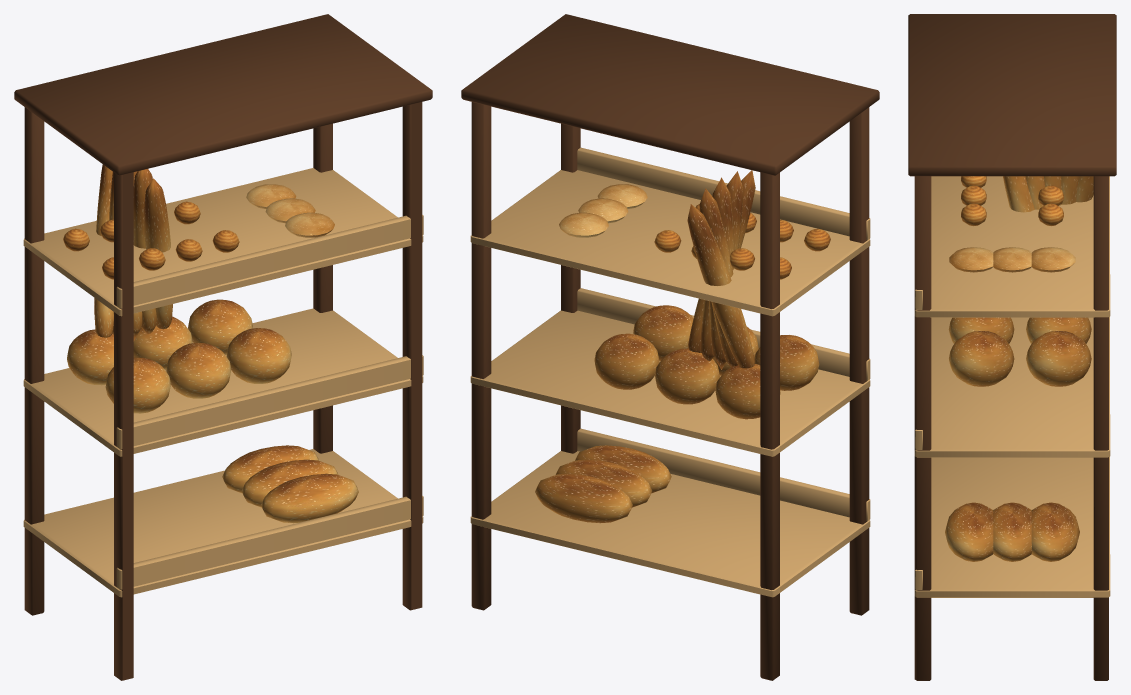
Rendered from buffet_bakery_display_stand.glb.
3 views of the same model, side by side, from view 1: azimuth 30°, elevation 25°; view 2: azimuth 150°, elevation 25°; view 3: azimuth 270°, elevation 25° (orthographic).
Parts seen in each view (by area): view 1: buffet_bakery_display_stand; view 2: buffet_bakery_display_stand; view 3: buffet_bakery_display_stand.
Boxes of the visible parts, x1,y1,x2,y2 form: buffet_bakery_display_stand: [14, 14, 432, 680]; buffet_bakery_display_stand: [461, 14, 879, 680]; buffet_bakery_display_stand: [908, 14, 1116, 680].
Bounding box in the file's own units: 0.94 × 1.48 × 0.54.
Materials: 5 (3 with a texture image).
